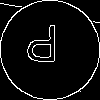P: (25, 25, 59, 71)
